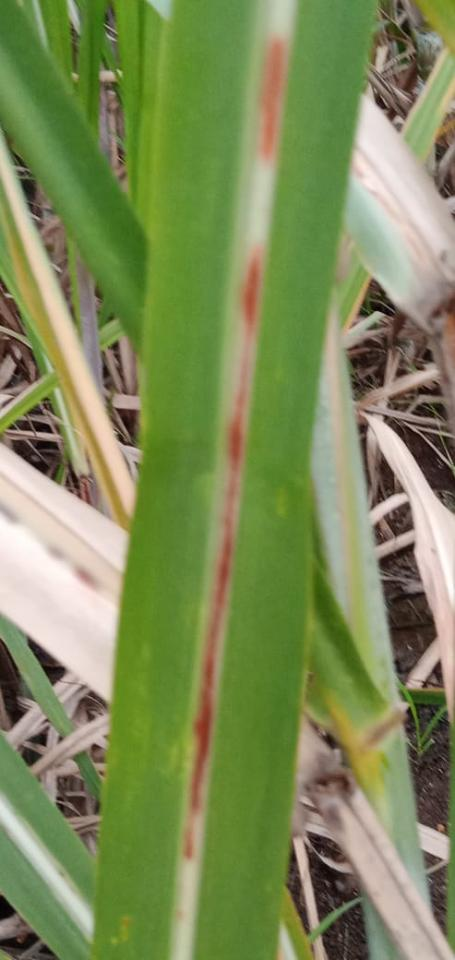RedRot: (184, 244, 261, 862), (259, 31, 283, 161), (176, 908, 185, 923)
